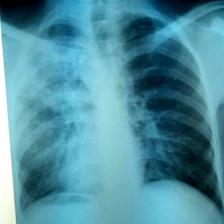tuberculosis: (12, 9, 224, 224)
